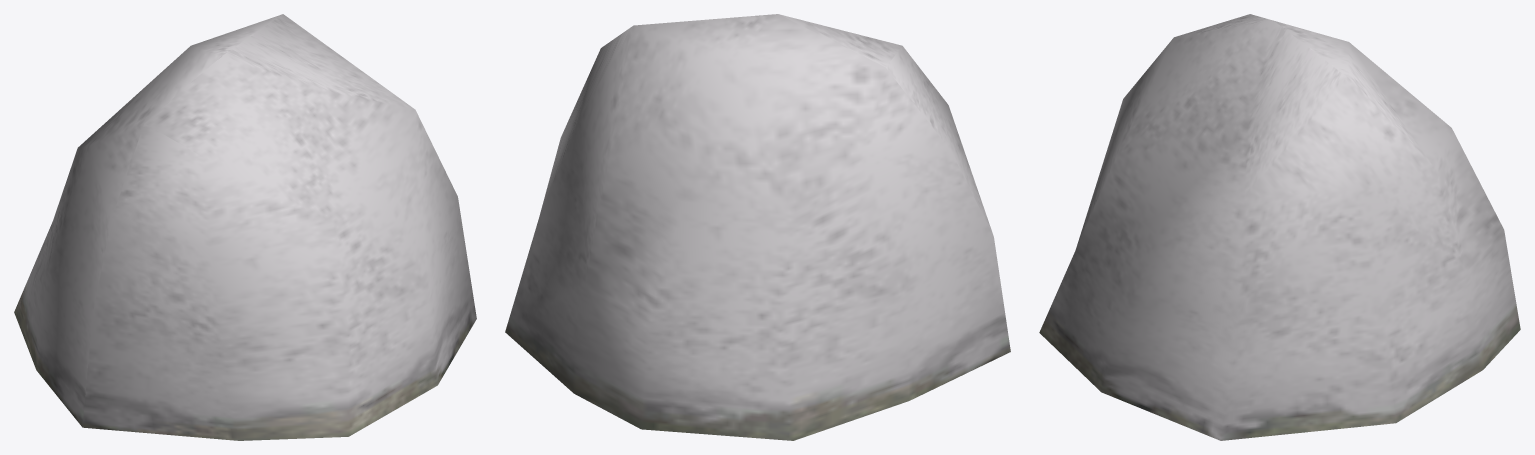
The model's file is general_obj_stone07.glb.
3 renders of one model, left to right at view 1: azimuth 30°, elevation 25°; view 2: azimuth 150°, elevation 25°; view 3: azimuth 270°, elevation 25°, orthographic. The views are drawn at different scales.
Parts seen in each view (by area): view 1: Sphere01; view 2: Sphere01; view 3: Sphere01.
Boxes of the visible parts, <box> form: Sphere01: <box>14,14,476,440</box>; Sphere01: <box>505,14,1010,440</box>; Sphere01: <box>1039,14,1520,440</box>.
Bounding box in the file's own units: 3.67 × 2.58 × 3.68.
Materials: 1 (1 with a texture image).
